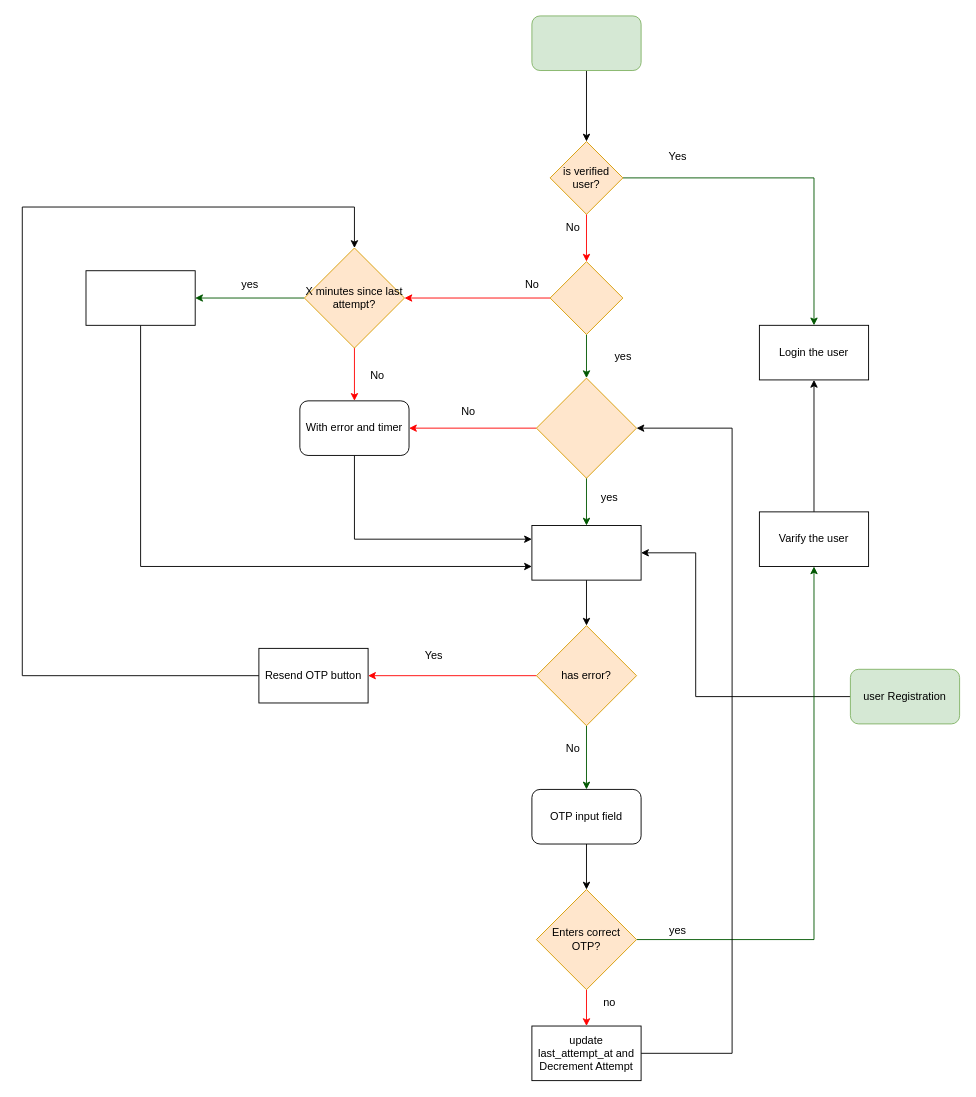
This 976x1097 diagram has some shape labels left out. Here are the shapes that lost their labels. From the top down, the centre of each, then its label:
At point (586, 43): "User Login".
At point (140, 297): "Delete old ,create & send OTP".
At point (586, 297): "has recent OTP?".
At point (586, 427): "Any attempt left?".
At point (586, 552): "Redirect to OTP entry page".
